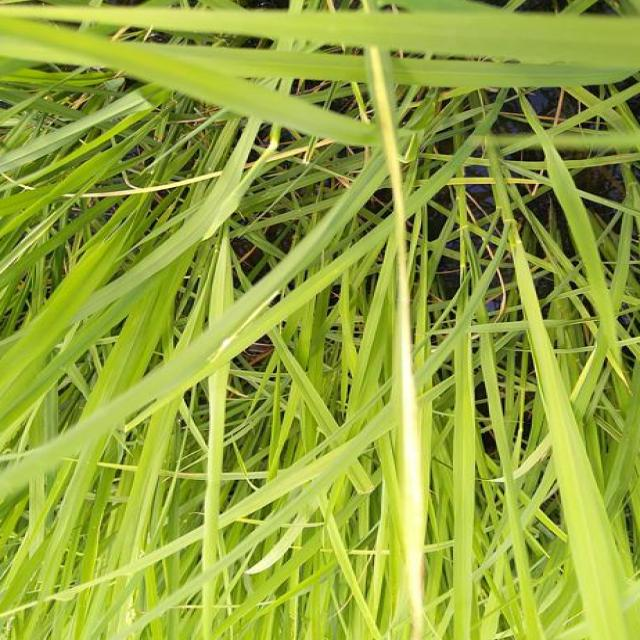Leaf Blight: (370, 49, 428, 640)
